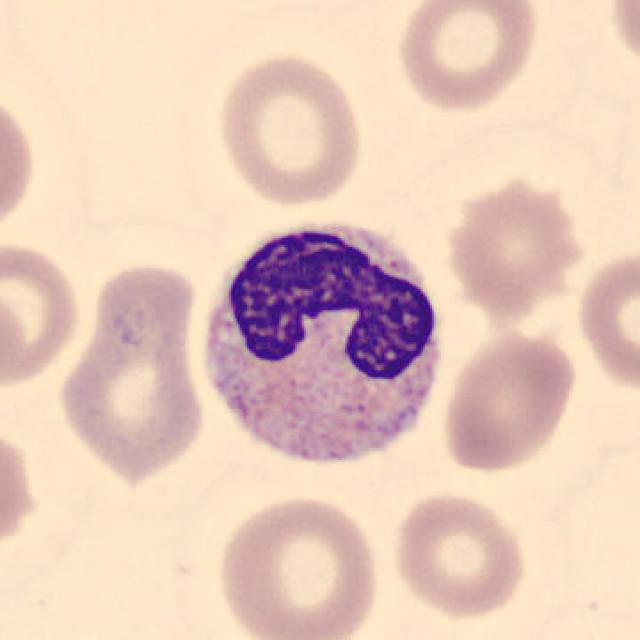Neutrophil: (187, 206, 455, 488)
RBC: (54, 258, 212, 487), (210, 490, 384, 640), (212, 48, 368, 210), (441, 171, 587, 317), (438, 328, 580, 476), (388, 487, 532, 622), (391, 0, 544, 116), (0, 234, 85, 391), (572, 238, 638, 398), (0, 83, 41, 247), (0, 416, 41, 571), (602, 0, 640, 79)
